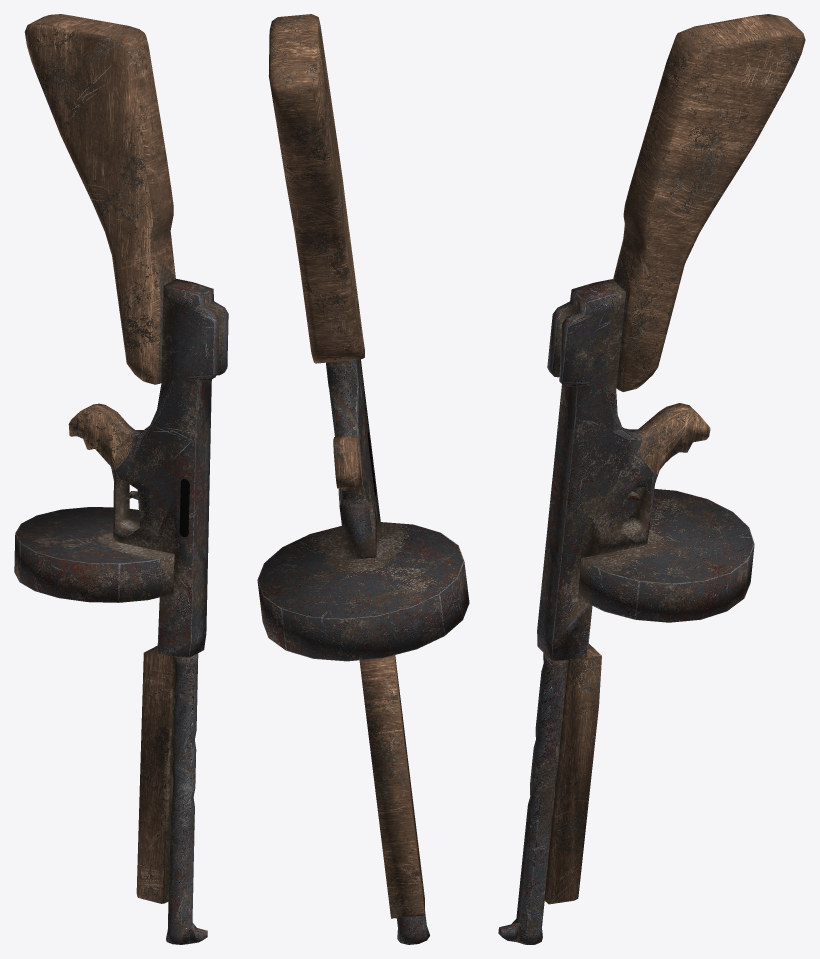
Rendered from Anim_idle_ametralladora_objetos.0016.obj.
3 renders of one model, left to right at view 1: azimuth 30°, elevation 25°; view 2: azimuth 150°, elevation 25°; view 3: azimuth 270°, elevation 25°, orthographic. The views are drawn at different scales.
Visible parts, largest first — view 1: Ametralladora1; view 2: Ametralladora1; view 3: Ametralladora1.
Boxes of the visible parts, box(x1,y1,x2,y2) form: Ametralladora1: box(14, 14, 228, 944); Ametralladora1: box(257, 14, 469, 944); Ametralladora1: box(498, 14, 805, 944).
Size of the model in its own units: 1.18 by 5.96 by 1.81.
